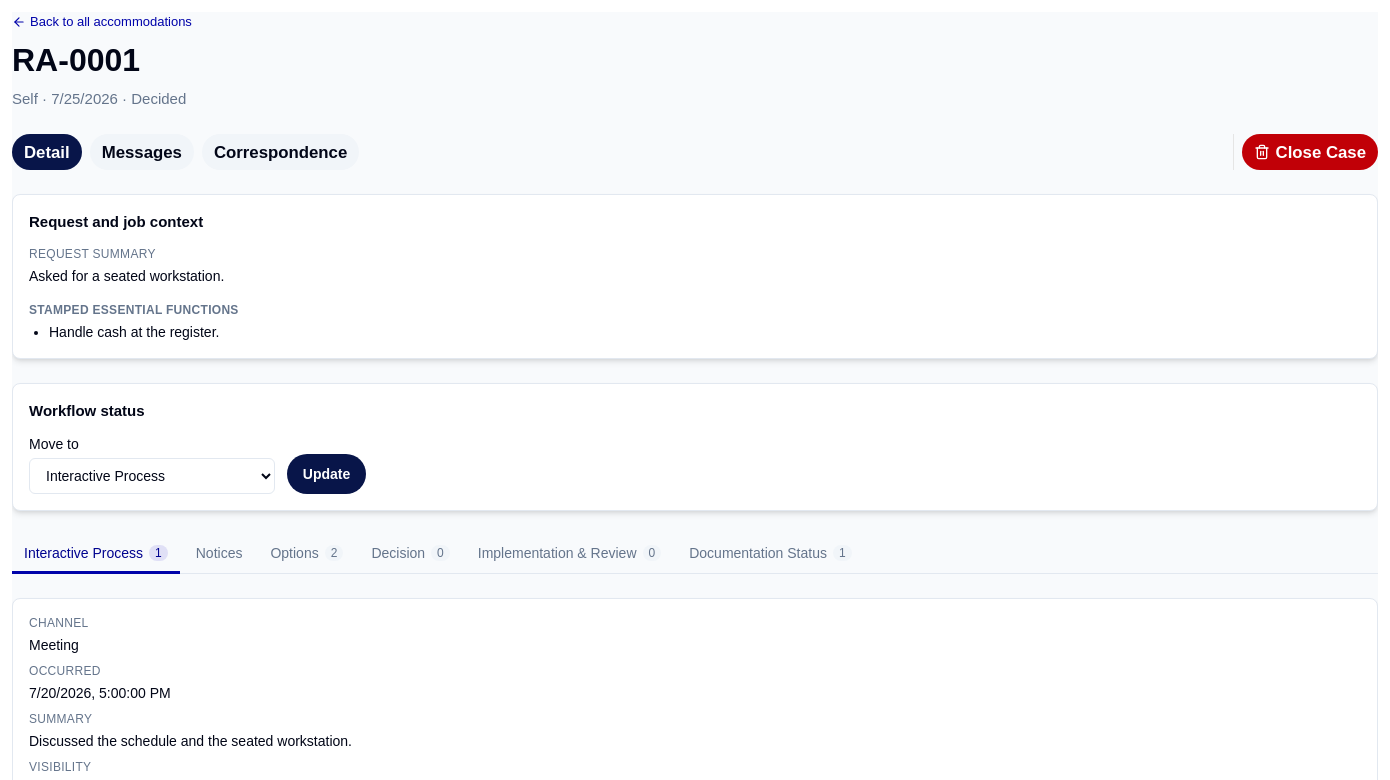
Test: the restricted medical surface is Platform Admin / HR Partner only › gives a Client Admin the workflow status but NO reveal and NO medical entry
This screenshot has width=1390, height=780.
What coordinates should you click on to do the following:
click the tab "Documentation status 1"
I would click on:
 (770, 555)
Its box is [677,535,864,574].
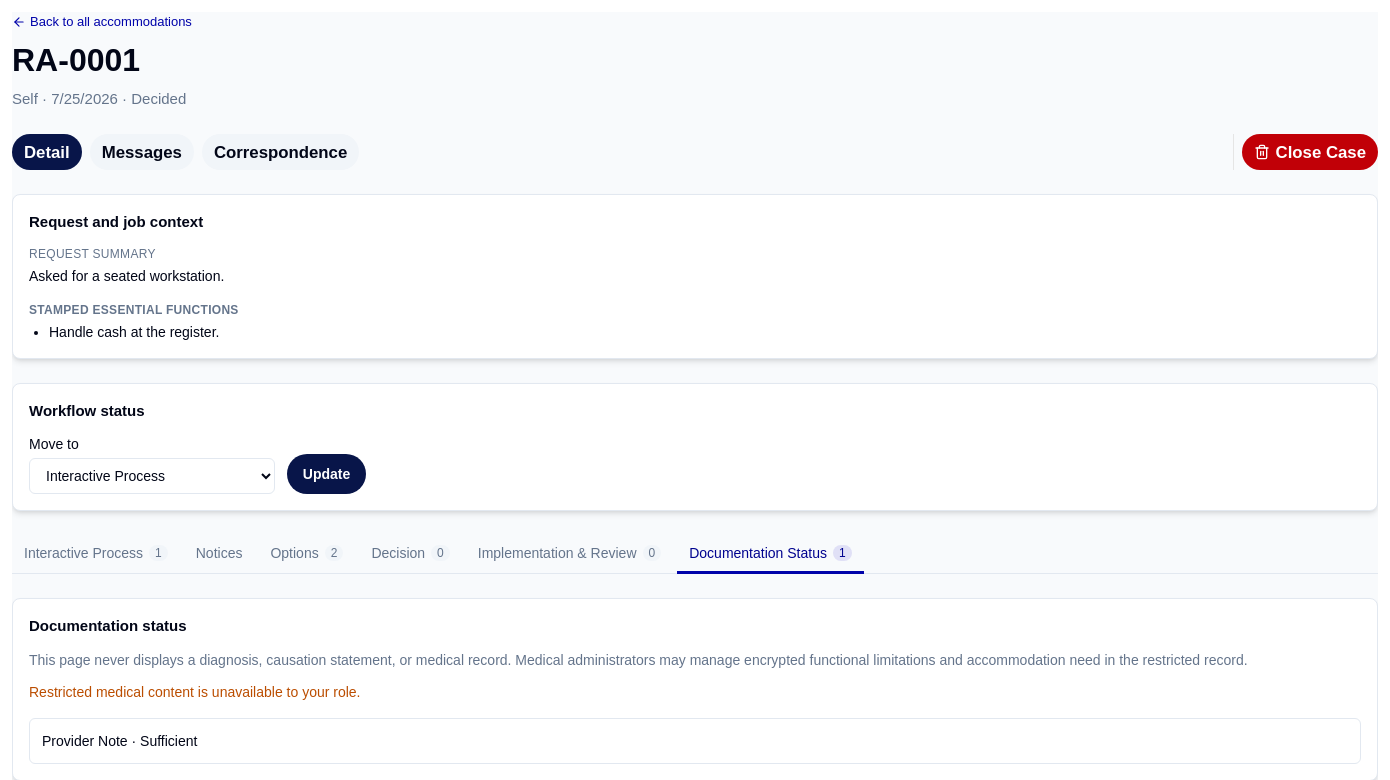
Expected: the text "Restricted medical content is unavailable to your role." is shown, [29,684,360,700]
Expected: the text "Provider Note · Sufficient" is shown, [42,731,197,751]
